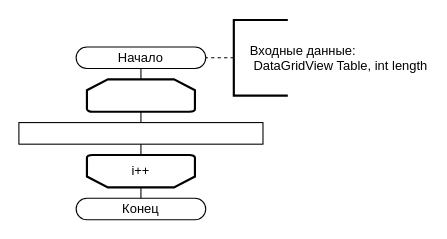
The diagram is 447 pixels wide and 239 high, and some of its shapes have lost their labels. The box of each missing label's shape, as (x1, y1, x2, y2) in pixels:
i = 0; length: (85, 78, 195, 112)
Table.Rows[i].Cells[i].Selected = true: (18, 122, 263, 144)
